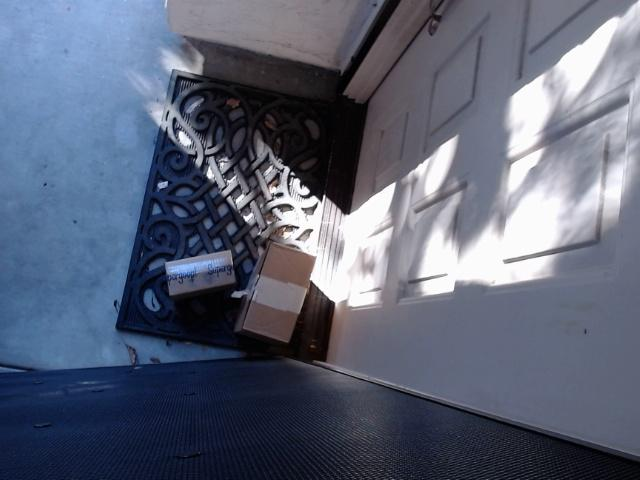box: (234, 240, 317, 345), (165, 249, 235, 302)
